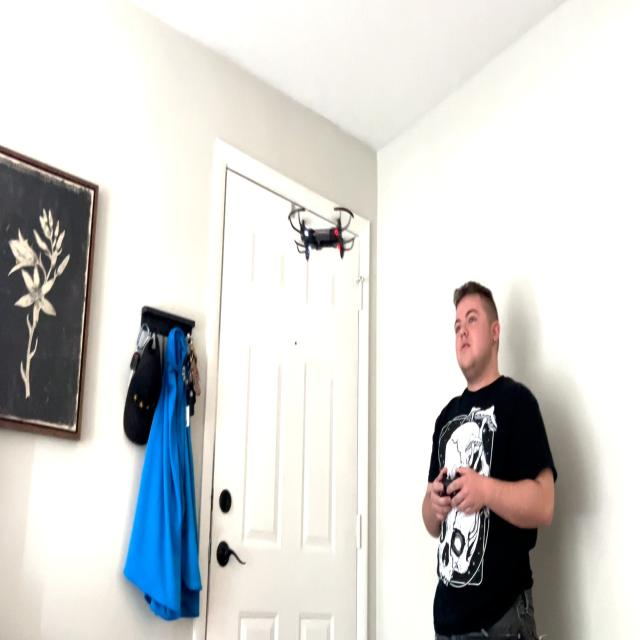drone: (280, 190, 363, 276)
